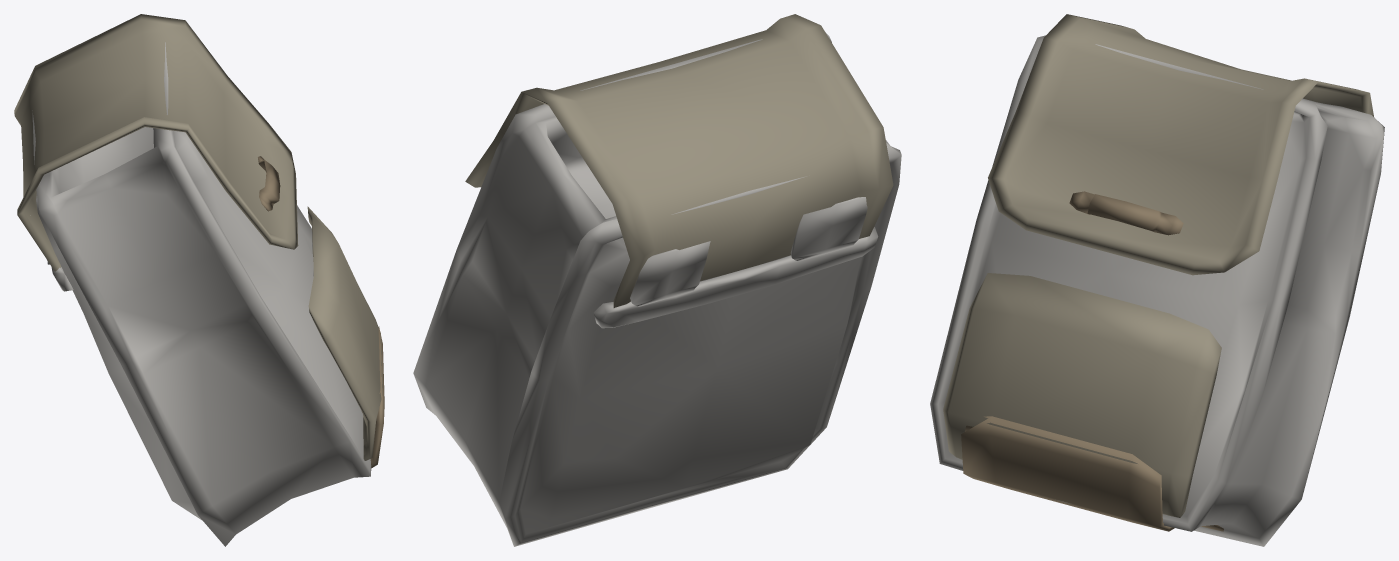
The picture shows the model from 3 angles, left to right: view 1: azimuth 30°, elevation 25°; view 2: azimuth 150°, elevation 25°; view 3: azimuth 270°, elevation 25°; orthographic projection. The views are drawn at different scales.
Parts seen in each view (by area): view 1: polySurface8.002; view 2: polySurface8.002; view 3: polySurface8.002.
Boxes of the visible parts, x1,y1,x2,y2 form: polySurface8.002: [14, 14, 384, 546]; polySurface8.002: [413, 14, 901, 546]; polySurface8.002: [930, 14, 1384, 546].
Size of the model in its own units: 55.67 by 59.69 by 55.27.
